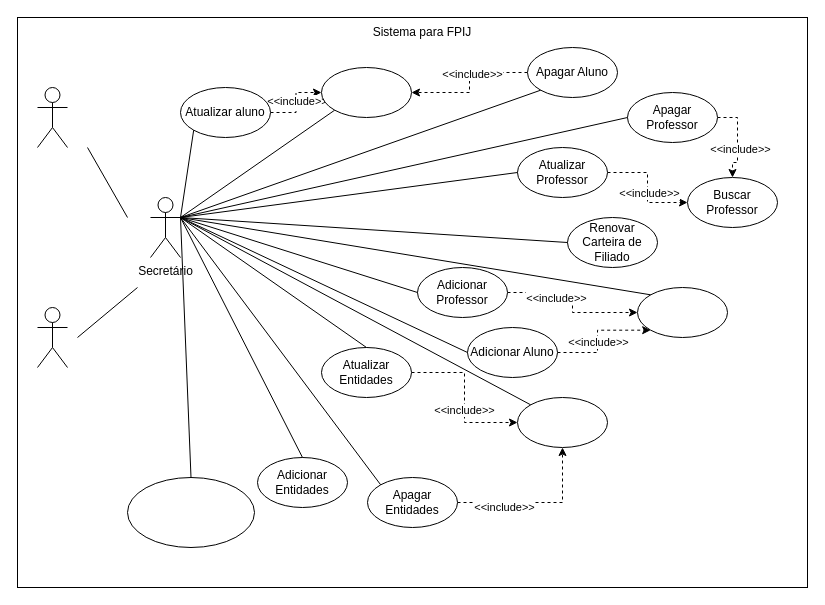
The diagram is 825 pixels wide and 605 high, and some of its shapes have lost their labels. Here are the shapes that lost their labels. From the top down, the box of each, then its label:
(320, 66, 412, 118): Buscar Aluno
(36, 86, 68, 148): Aluno
(636, 286, 728, 338): Emitir Carteira de Filiado
(36, 306, 68, 368): Professor
(516, 396, 608, 448): Buscar Entidades
(126, 476, 254, 548): Emitir Relatório de Aniversariantes do mês
